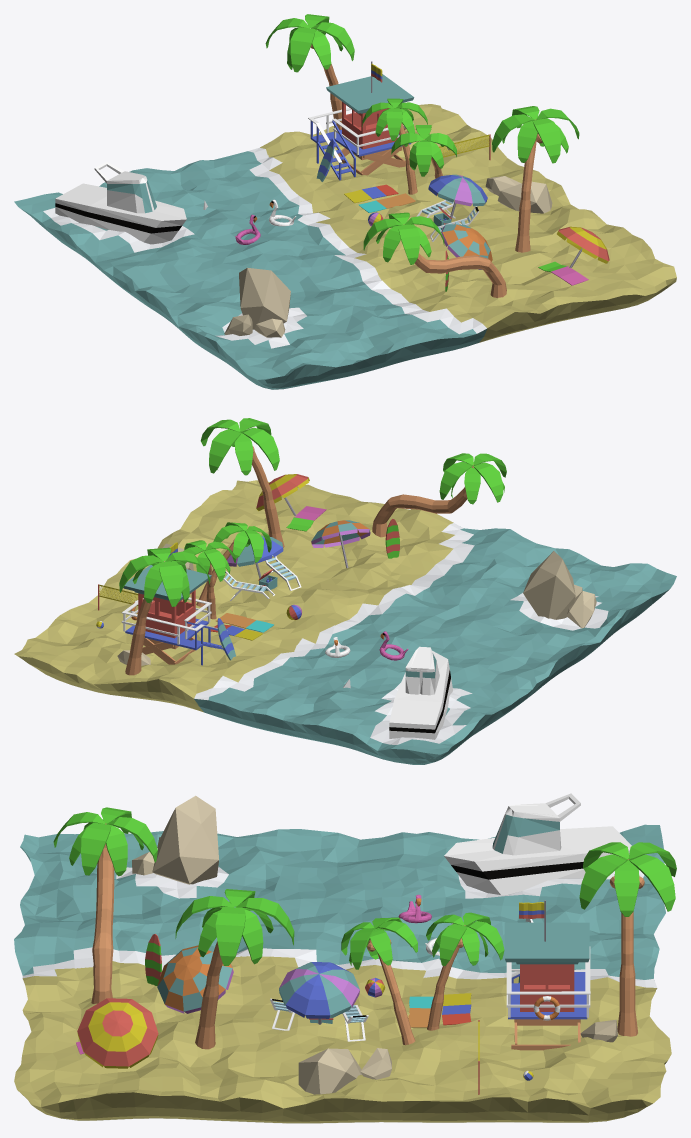
Rendered from object_beach_props.glb.
3 views of the same model, one above another, from view 1: azimuth 30°, elevation 25°; view 2: azimuth 150°, elevation 25°; view 3: azimuth 270°, elevation 25° (orthographic). The views are drawn at different scales.
Parts seen in each view (by area): view 1: LightBlue-material (×5), Sand-material, Green-material (×5), W2-material, White-material (×2), R1-material, Brown-material (×3), Red-material (×2), Blue-material, Black-material, Orange_003-material; view 2: LightBlue-material (×2), Sand-material, Green-material (×5), W2-material, White-material (×2), Brown-material (×4), R1-material, Red-material, Blue-material; view 3: Sand-material, LightBlue-material (×5), Green-material (×5), White-material (×2), Brown-material (×6), R1-material, W2-material, Red-material (×2), Blue-material (×2), Yellow-material, Orange_003-material, Black-material (+1 smaller).
Boxes of the visible parts, x1,y1,x2,y2 form: LightBlue-material (×5): (14,74,490,389); Sand-material: (260,104,676,342); Green-material (×5): (265,14,579,264); W2-material: (43,147,486,348); White-material (×2): (55,107,413,244); R1-material: (224,176,552,337); Brown-material (×3): (338,119,542,297); Red-material (×2): (342,101,609,261); Blue-material: (310,120,411,180); Black-material: (55,203,181,233); Orange_003-material: (442,224,492,261); LightBlue-material (×2): (123,528,676,764); Sand-material: (14,480,454,712); Green-material (×5): (119,418,506,606); W2-material: (194,523,608,744); White-material (×2): (121,597,452,739); Brown-material (×4): (125,446,473,675); R1-material: (117,543,596,665); Red-material: (138,590,195,638); Blue-material: (125,618,223,665); Sand-material: (14,956,671,1123); LightBlue-material (×5): (14,814,665,1018); Green-material (×5): (53,807,676,969); White-material (×2): (444,793,631,1020); Brown-material (×6): (91,823,644,1050); R1-material: (132,795,617,1094); W2-material: (22,848,657,987); Red-material (×2): (77,964,574,1066); Blue-material (×2): (285,962,587,1019); Yellow-material: (77,1002,158,1068); Orange_003-material: (157,945,232,1011); Black-material: (451,862,583,879).
Bounding box in the file's own units: 125 × 42.75 × 127.
2 materials, 2 textured.
